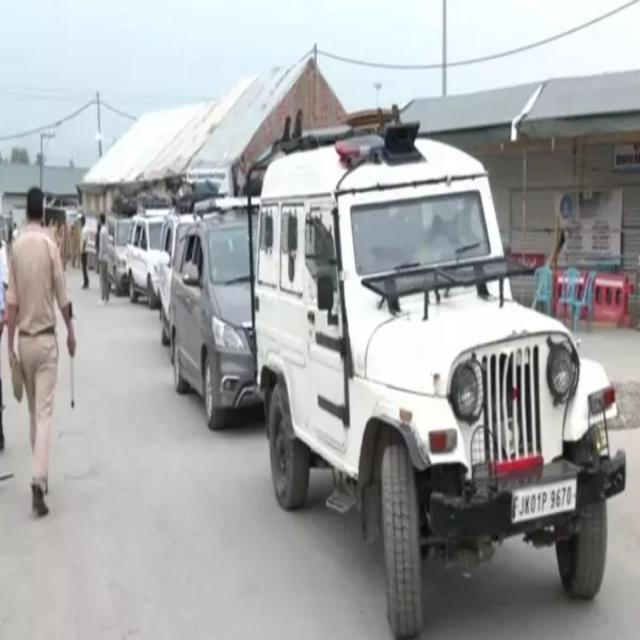plate: (507, 472, 583, 527)
